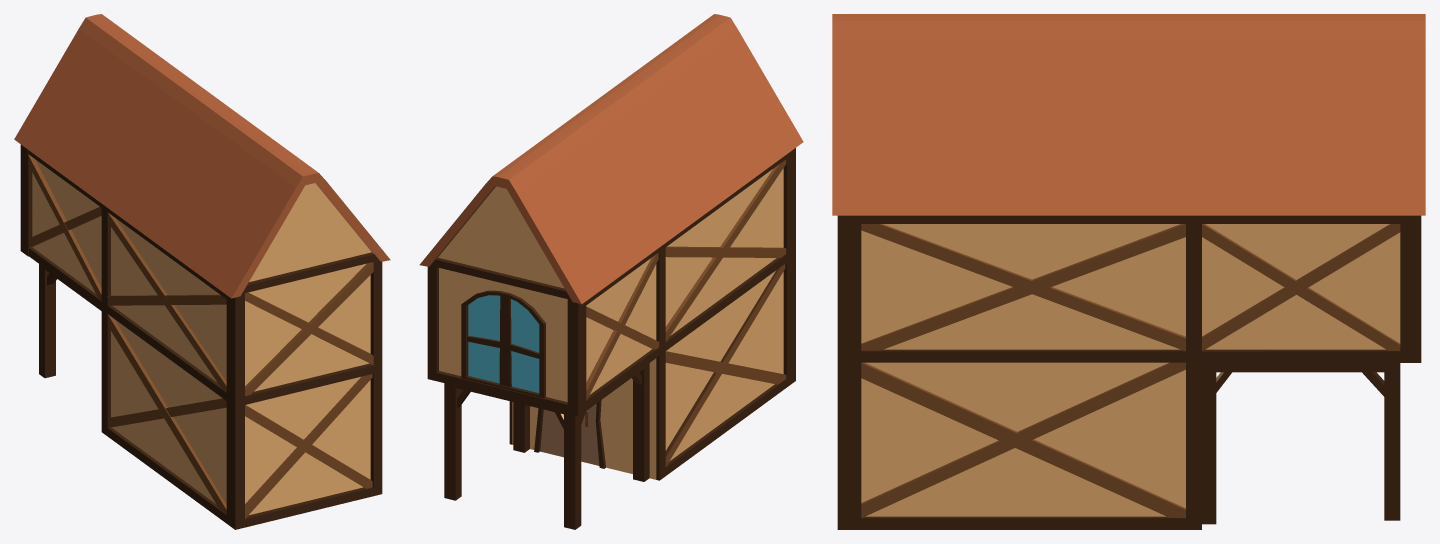
The model's file is Huis Design 2.fbx.
The picture shows the model from 3 angles, left to right: view 1: azimuth 30°, elevation 25°; view 2: azimuth 150°, elevation 25°; view 3: azimuth 270°, elevation 25°; orthographic projection. The views are drawn at different scales.
Parts seen in each view (by area): view 1: Huis Design 2; view 2: Huis Design 2; view 3: Huis Design 2.
Boxes of the visible parts, x1,y1,x2,y2 form: Huis Design 2: (14,14,390,529); Huis Design 2: (419,14,803,529); Huis Design 2: (832,14,1425,529).
Size of the model in its own units: 397 by 808 by 939.
